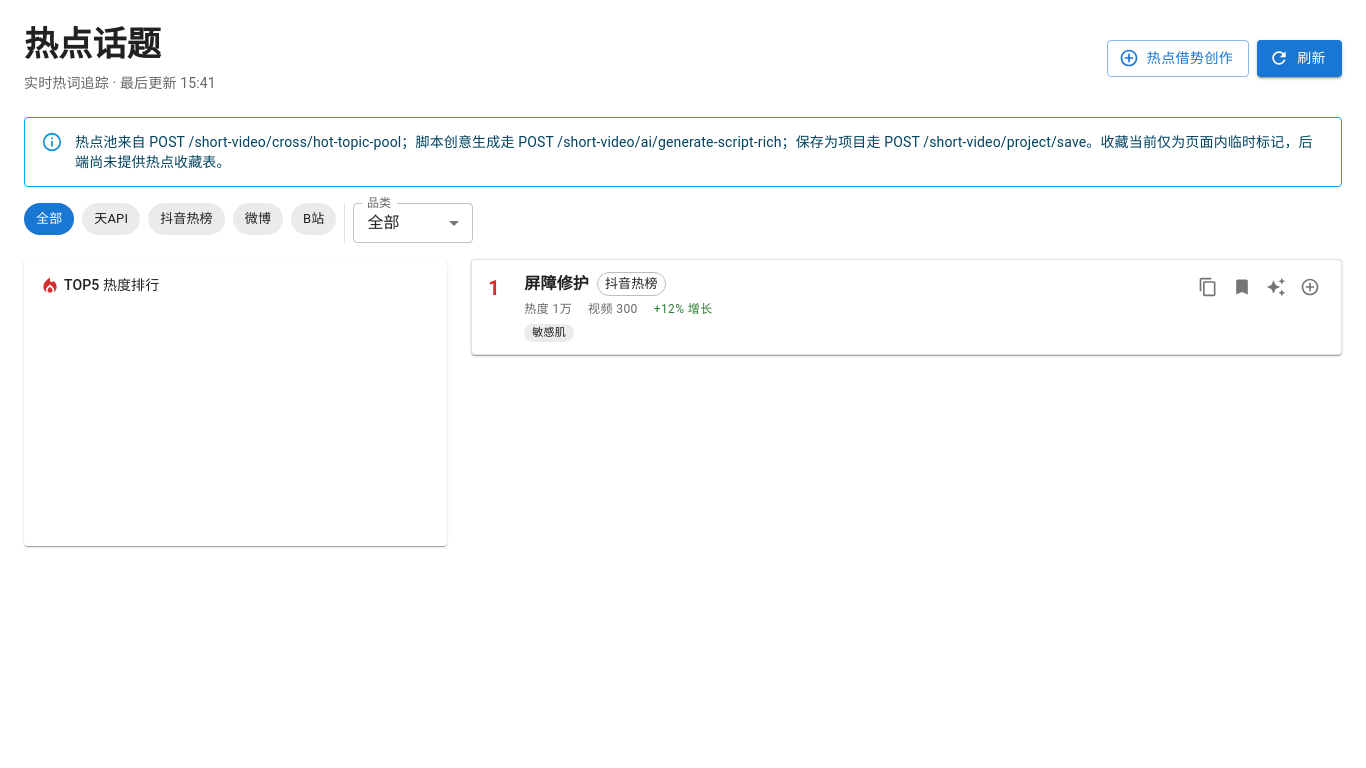
Test: ShortVideo ops pages › HotTopicPage keeps keyword and reports ai script endpoint when idea generation fails
Expected: the text "屏障修护" is shown, x1=524 y1=272 x2=589 y2=296
Click the button named "生成脚本创意". click: (1276, 287)
box: x1=1261 y1=272 x2=1291 y2=302
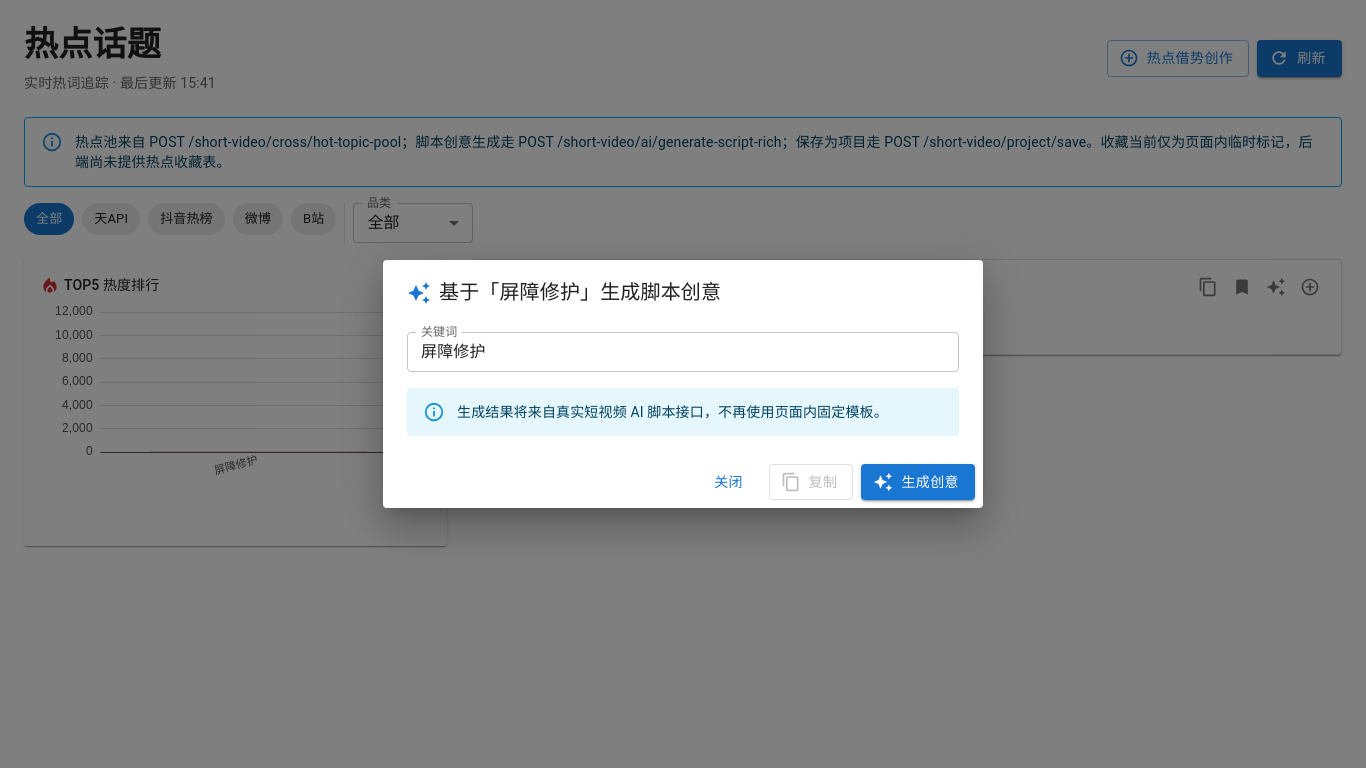
Click the button "生成创意". click: (918, 482)
box: x1=861 y1=464 x2=975 y2=500
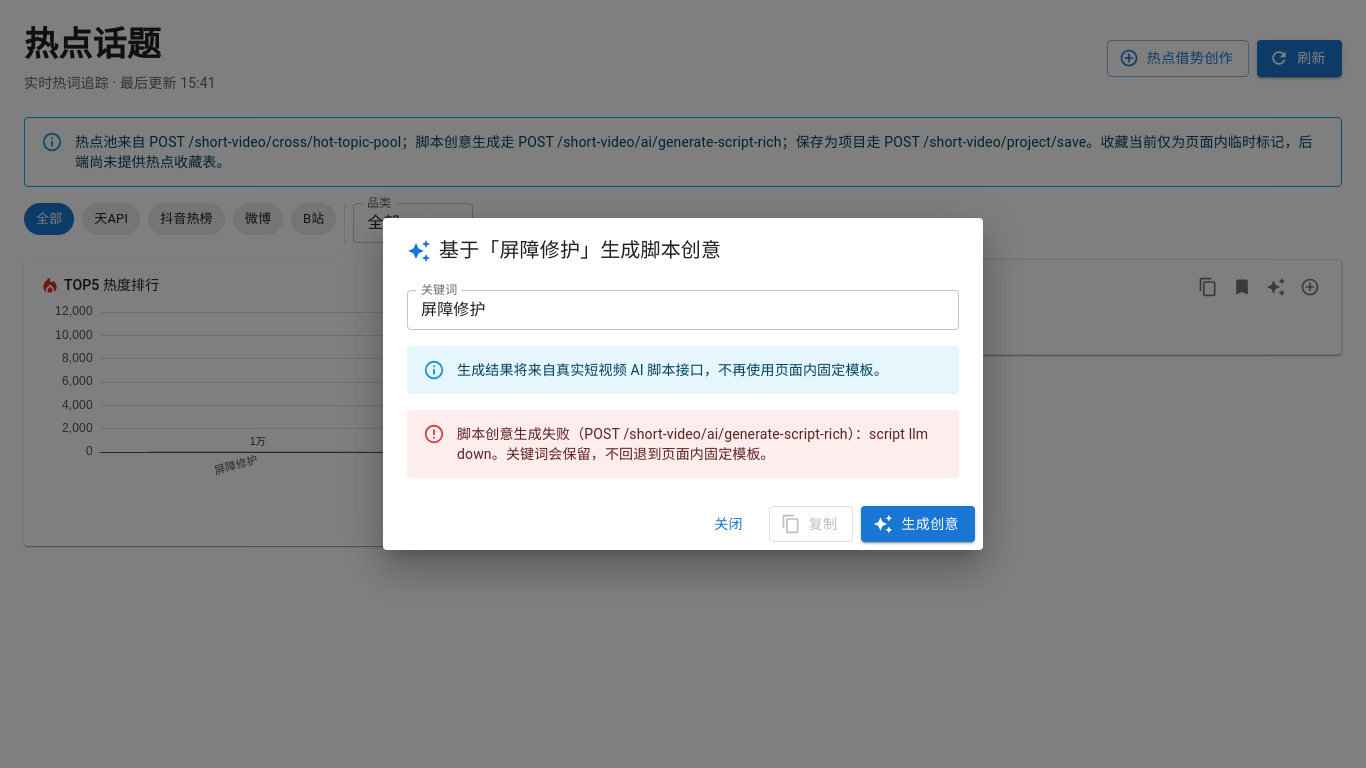
Now the field showing "屏障修护" is shown, box x1=407 y1=290 x2=959 y2=330
Now the text "脚本创意生成失败（POST /short-video/ai/generate-script-rich）：script llm down" is shown, box x1=457 y1=416 x2=943 y2=472
